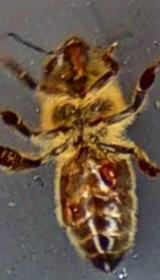varroa_mite: (88, 158, 132, 192), (52, 190, 80, 228)
